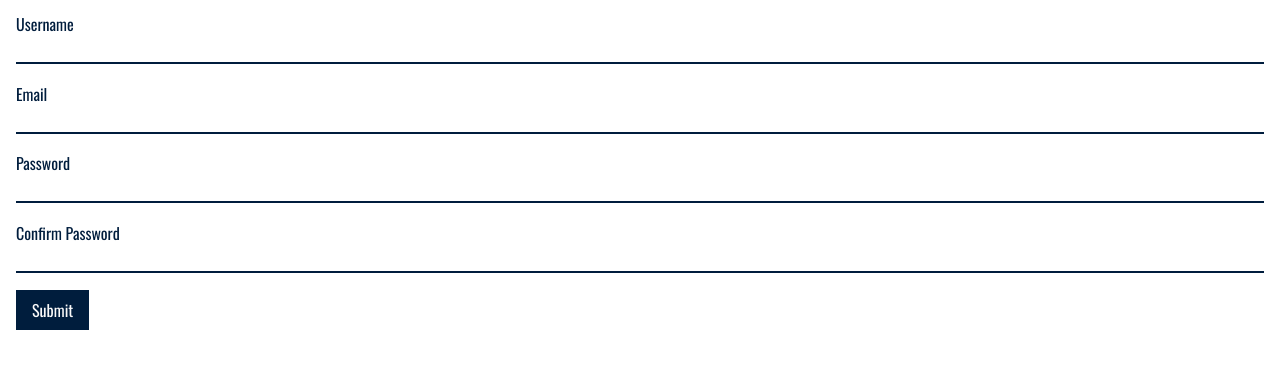
Test: Register Form › should display an error message for a password longer than 32 characters
In the field labelled "Username": coordinates (640, 51) top-left (16, 37), bottom-right (1264, 64), type "username"
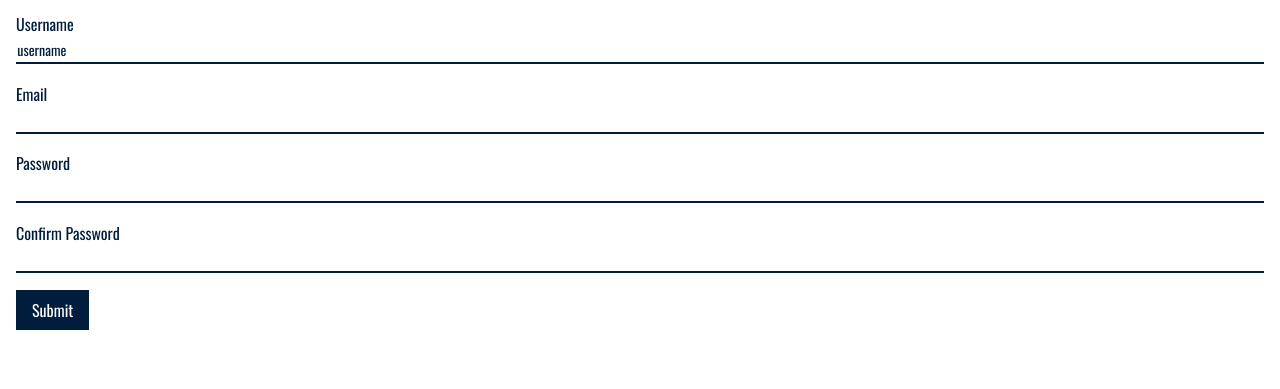
In the field labelled "Email": coordinates (640, 120) top-left (16, 107), bottom-right (1264, 134), type "a@a.pl"
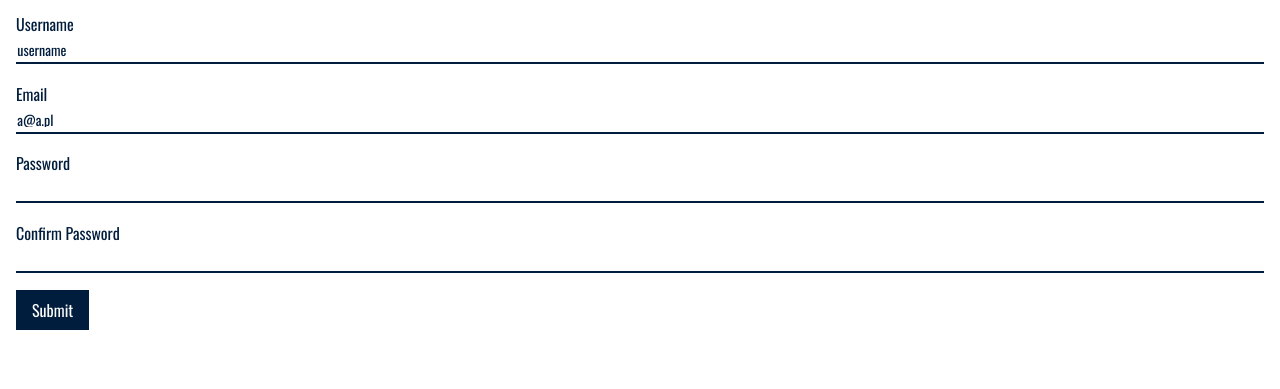
In the password field labelled "Password": coordinates (640, 190) top-left (16, 176), bottom-right (1264, 203), type "Pa$$w0rd1Pa$$w0rd1Pa$$w0rd1Pa$$w0rd1"
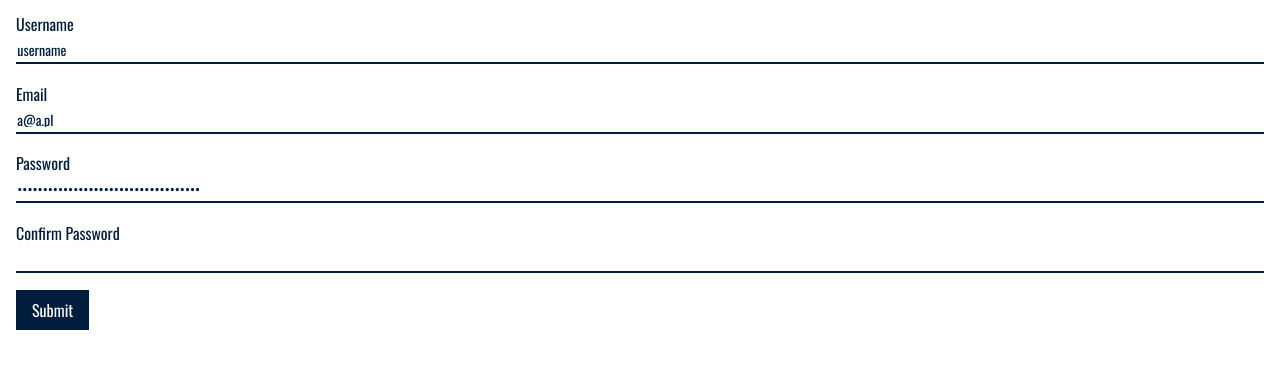
In the password field labelled "Confirm Password": coordinates (640, 259) top-left (16, 246), bottom-right (1264, 273), type "Pa$$w0rd"
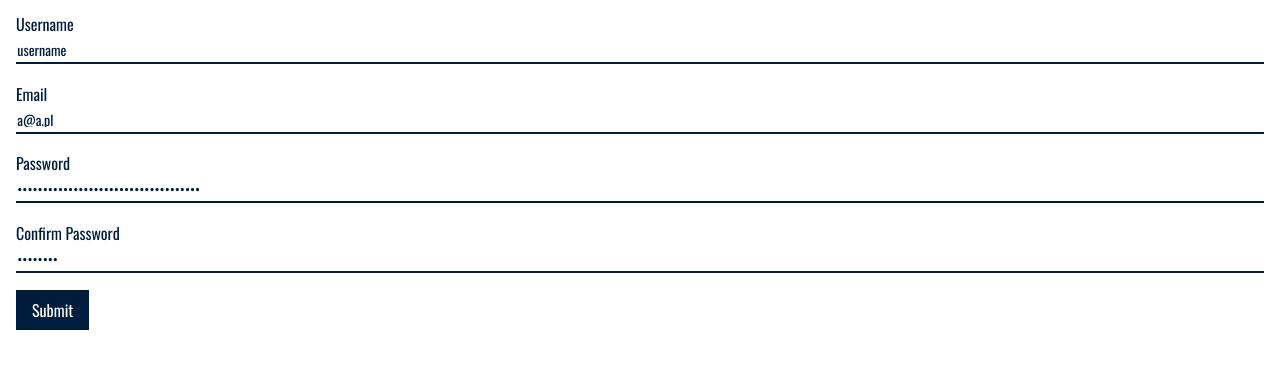
Click the button "Submit": coordinates (53, 310) top-left (16, 290), bottom-right (89, 330)
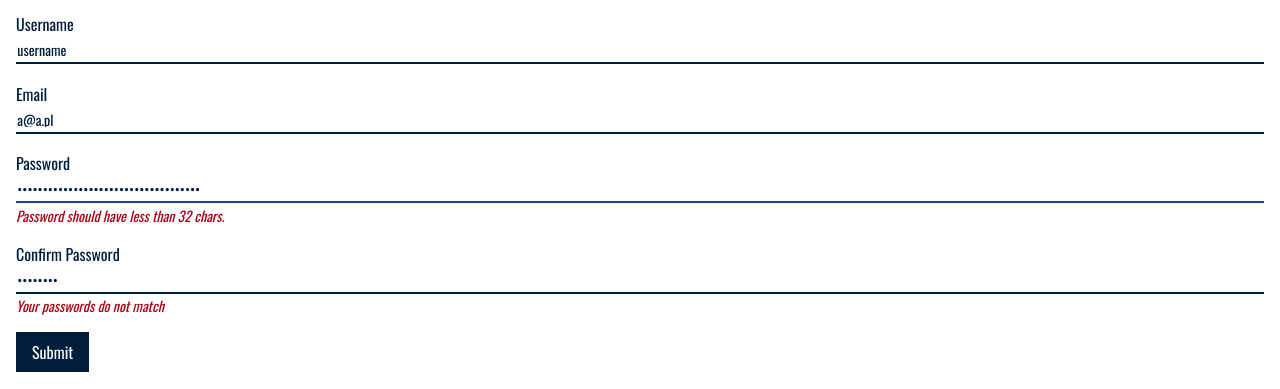
Check: the text "Password should have less than 32 chars." is shown, box top-left (16, 204), bottom-right (224, 226)
